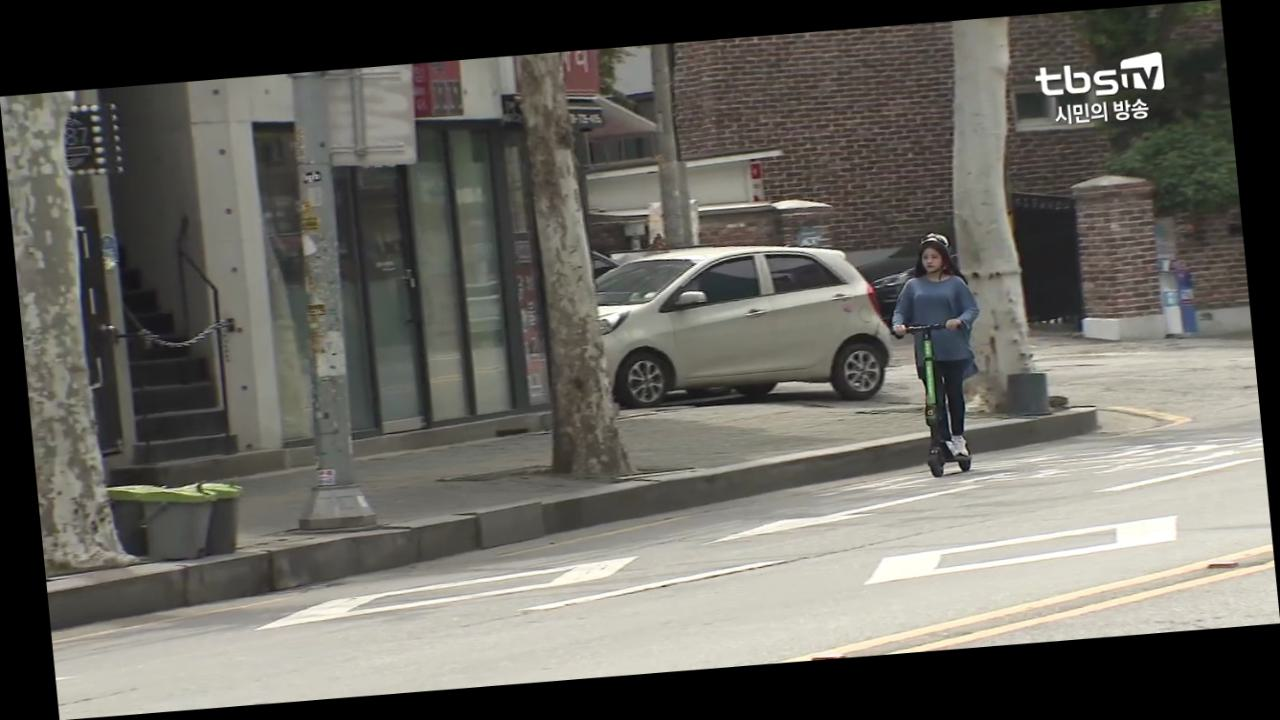helmet: (881, 228, 998, 481)
